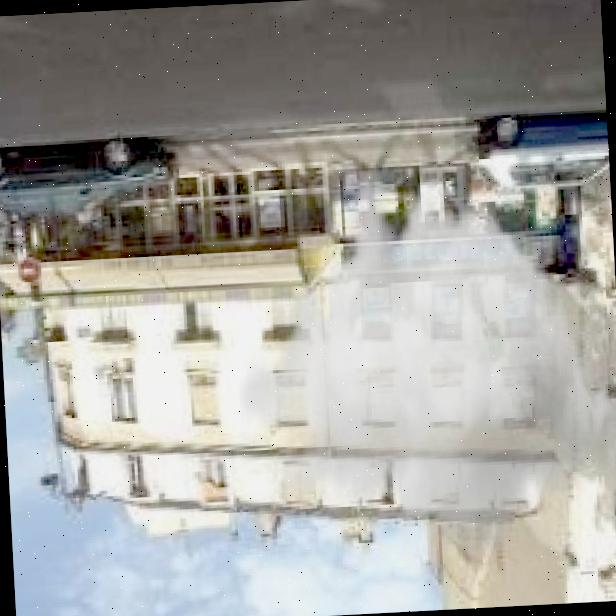smoke: (227, 152, 616, 578)
